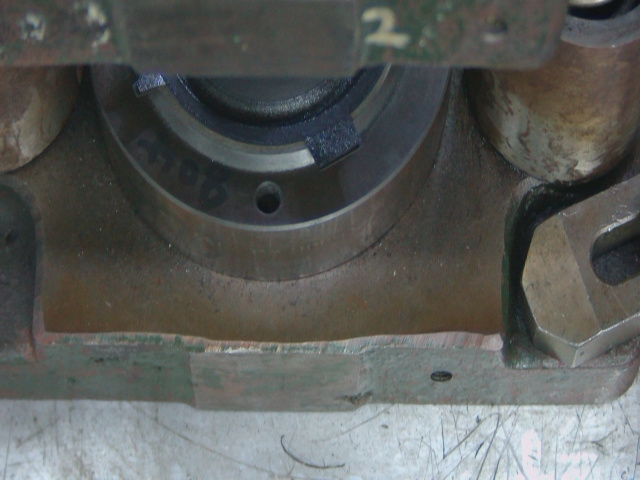HX1: (306, 120, 372, 177)
